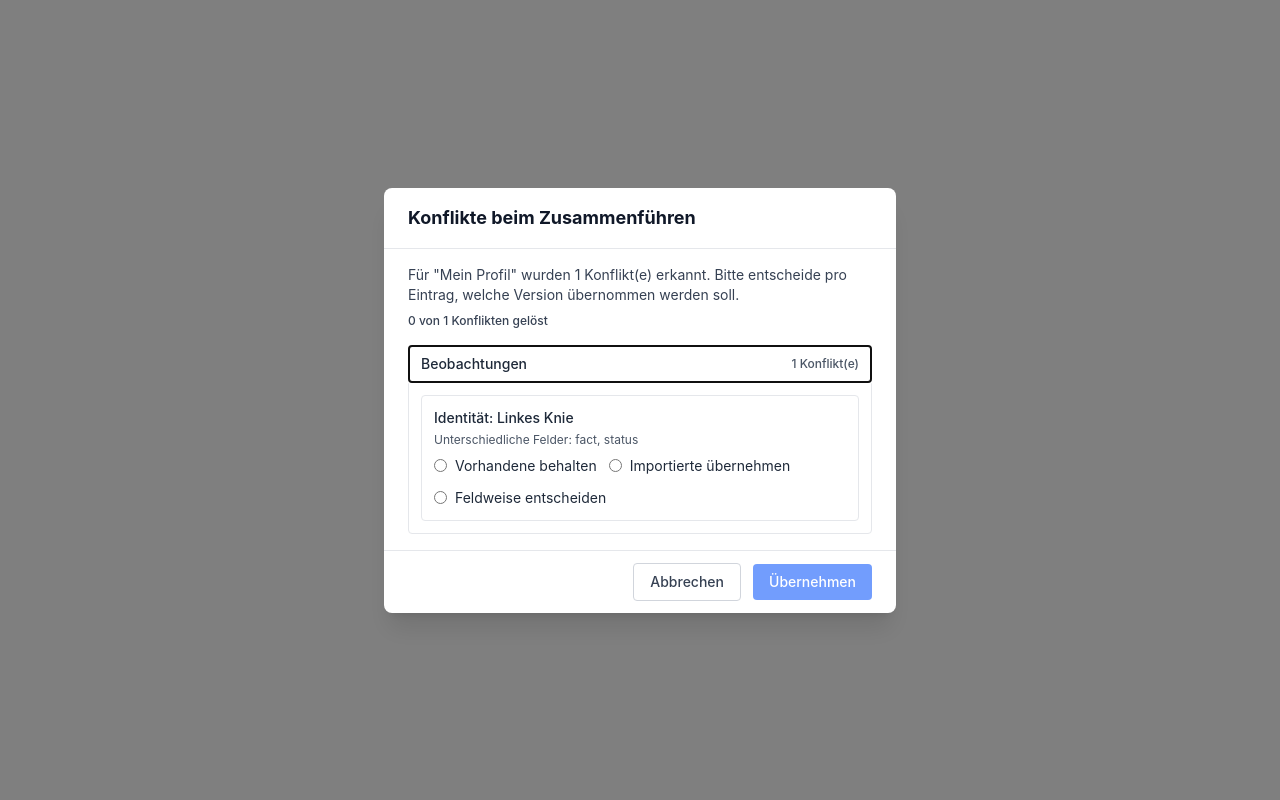
Test case: ConflictResolutionDialog › per-field gating: confirm disabled until every diff field has a per-field pick
Click the radio button with test id "conflict-row-obs-existing-1-field-by-field" at (440, 498), box 434,491 -> 447,504
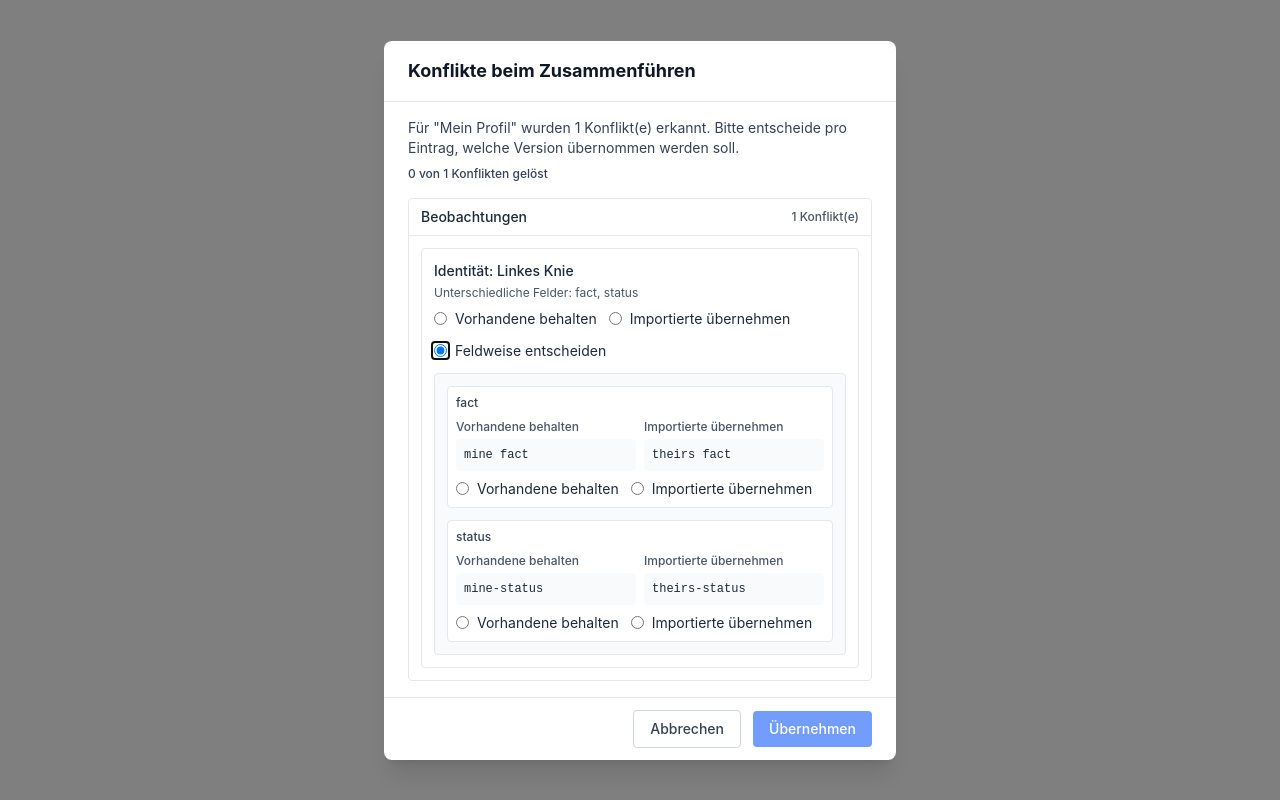
Expected: the button with test id "conflict-resolution-dialog-confirm" is disabled, 753,710 -> 872,746
Click the radio button with test id "conflict-row-obs-existing-1-field-fact-theirs" at (637, 488), box 631,482 -> 644,495
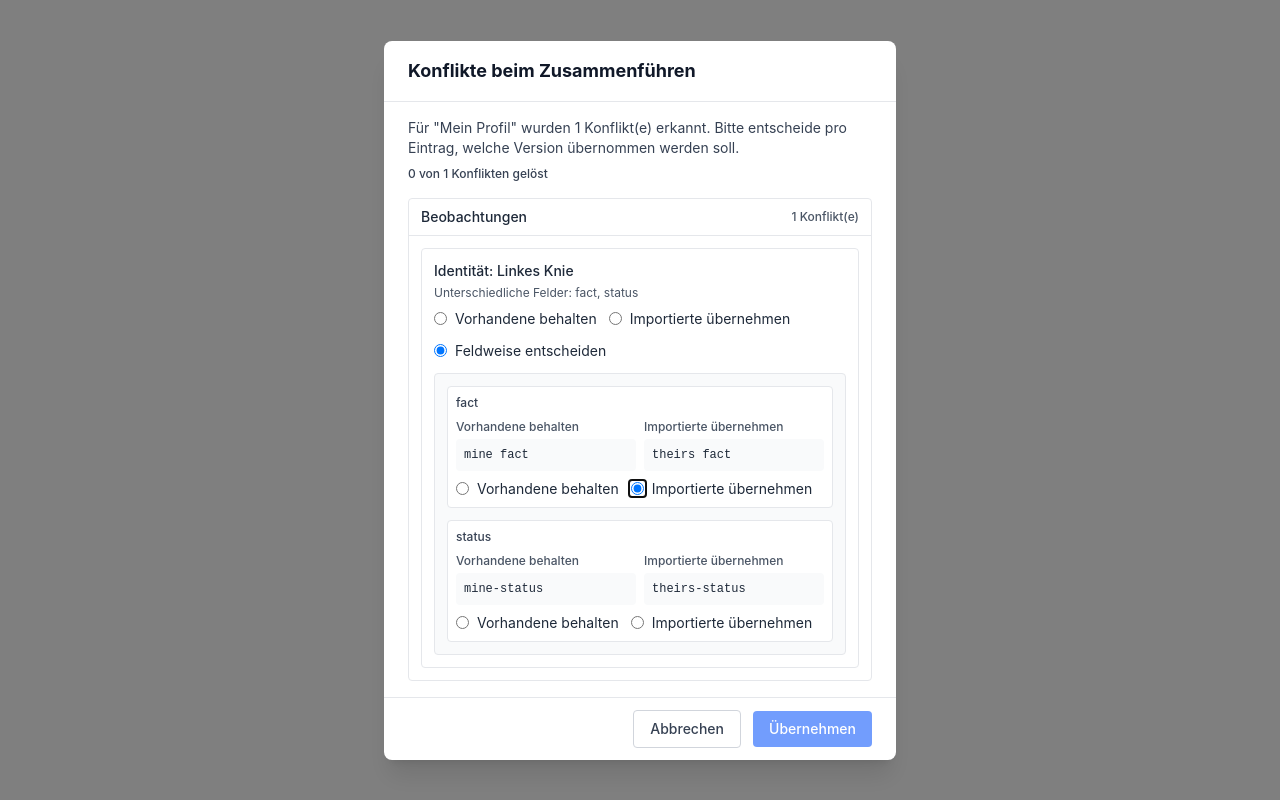
Expected: the button with test id "conflict-resolution-dialog-confirm" is disabled, 753,710 -> 872,746
Click the radio button with test id "conflict-row-obs-existing-1-field-status-mine" at (462, 622), box 456,616 -> 469,629
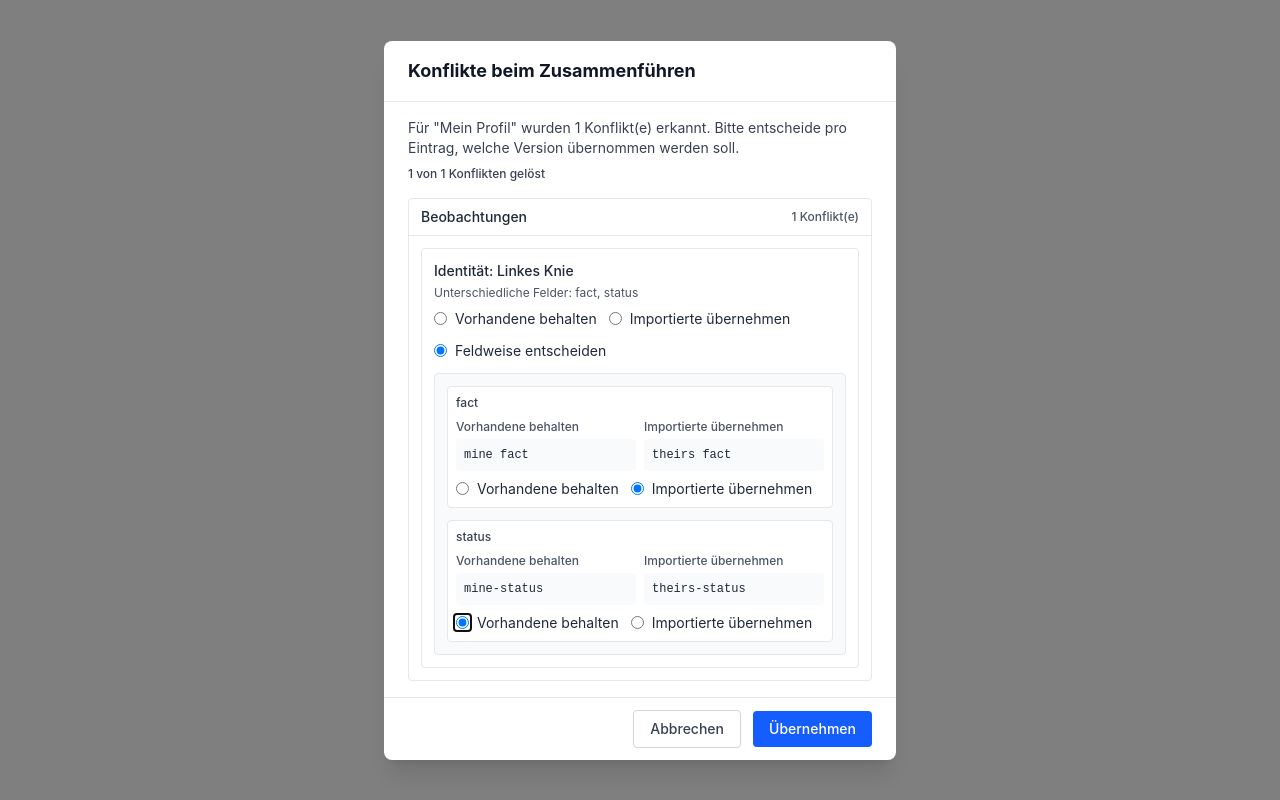
Now the button with test id "conflict-resolution-dialog-confirm" is enabled, box 753,710 -> 872,746
